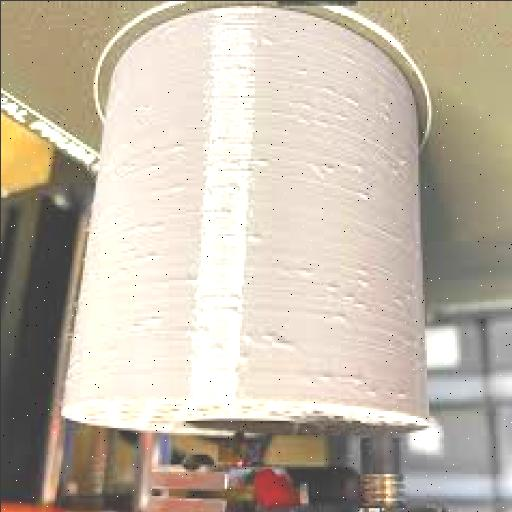blobs: (296, 64, 420, 213), (94, 125, 170, 273), (124, 303, 292, 353), (200, 149, 270, 254), (306, 358, 430, 410), (325, 264, 417, 324)
